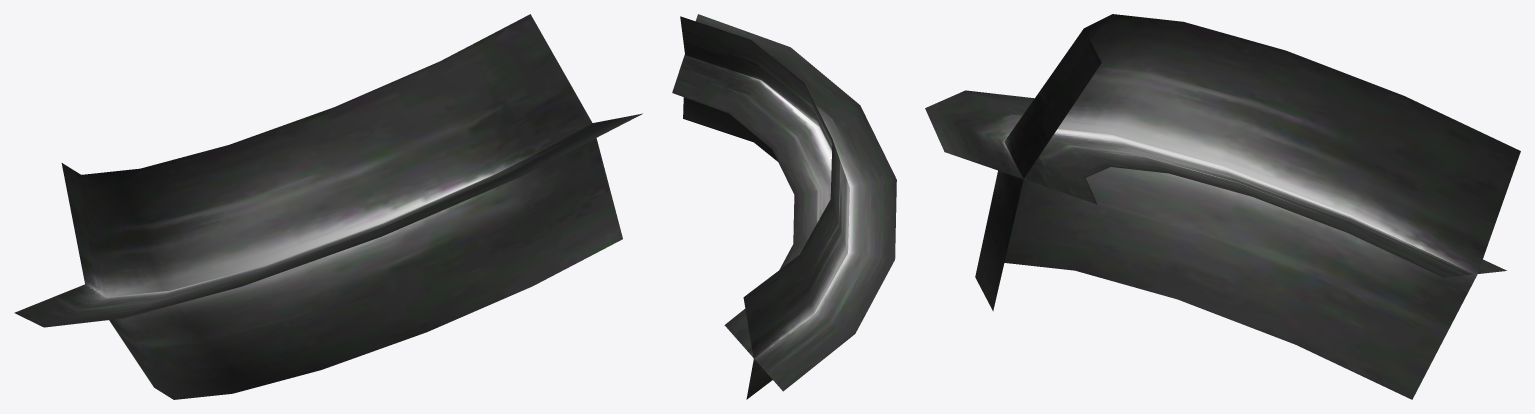
Rendered from saoweiguang.fbx.
3 renders of one model, left to right at view 1: azimuth 30°, elevation 25°; view 2: azimuth 150°, elevation 25°; view 3: azimuth 270°, elevation 25°, orthographic. The views are drawn at different scales.
Visible parts, largest first — view 1: Effect_1122attack_02; view 2: Effect_1122attack_02; view 3: Effect_1122attack_02.
Part boxes in pixels (x1=…): Effect_1122attack_02: x1=14, y1=14, x2=642, y2=399; Effect_1122attack_02: x1=672, y1=14, x2=896, y2=399; Effect_1122attack_02: x1=925, y1=14, x2=1520, y2=399.
Bounding box in the file's own units: 2.78 × 2.65 × 3.06.
2 materials, 2 textured.
